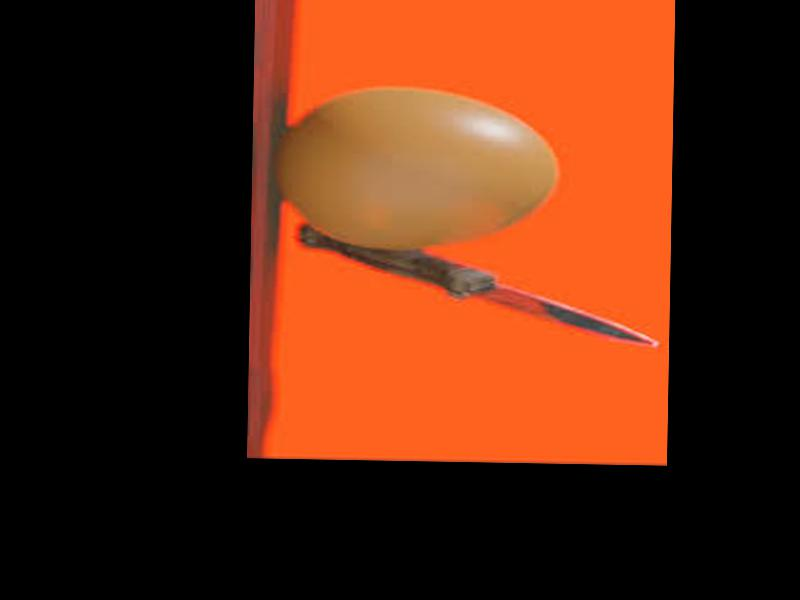Eggs: (280, 87, 555, 251)
